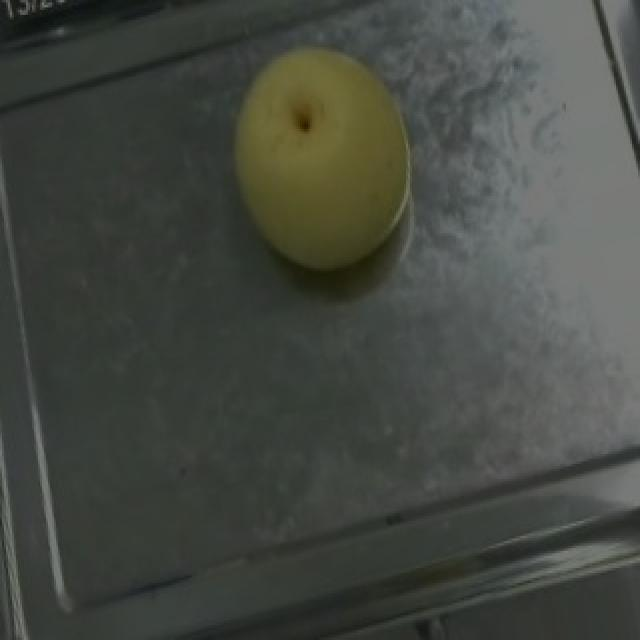Fruit: (194, 10, 456, 308)
